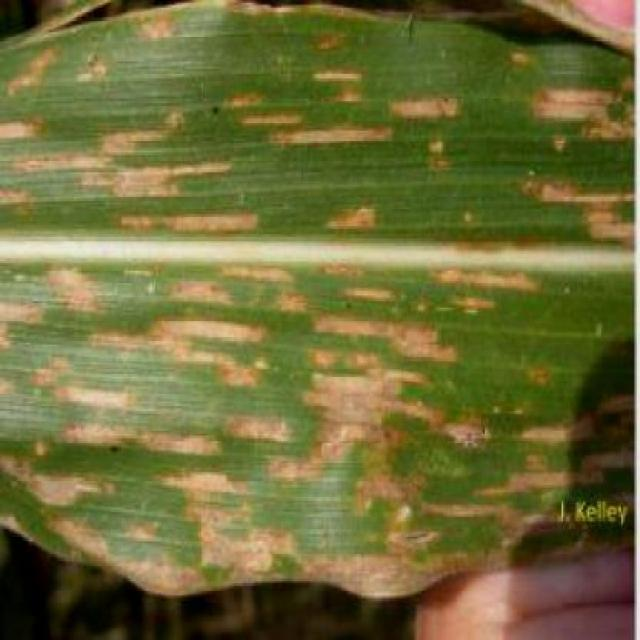Corn_Grey_Leaf_Spot: (0, 0, 546, 597)
